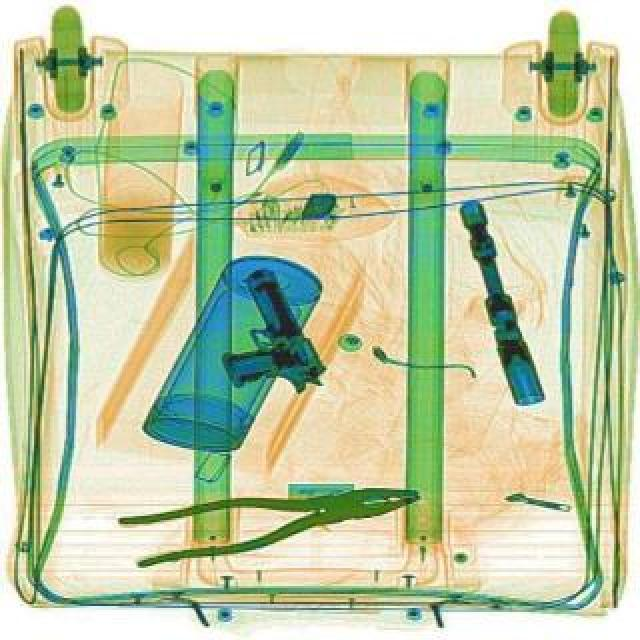gun: (194, 258, 326, 418)
wrench: (116, 468, 426, 570)
